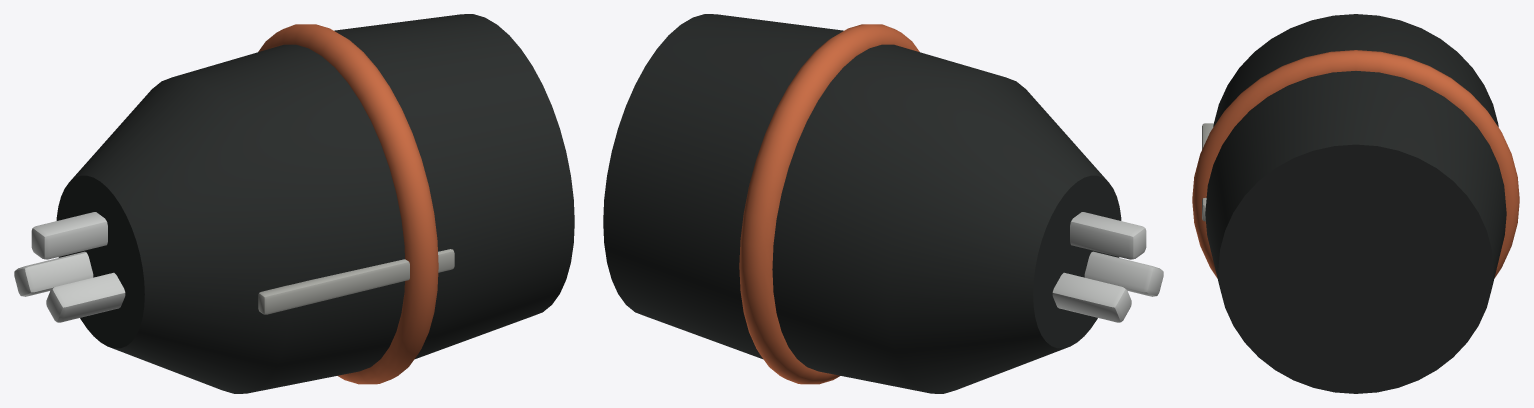
The model's file is corded_drill_chuck.glb.
The picture shows the model from 3 angles, left to right: view 1: azimuth 30°, elevation 25°; view 2: azimuth 150°, elevation 25°; view 3: azimuth 270°, elevation 25°; orthographic projection. The views are drawn at different scales.
Parts seen in each view (by area): view 1: corded_drill_chuck; view 2: corded_drill_chuck; view 3: corded_drill_chuck.
Boxes of the visible parts, left/top/right/bottom form: corded_drill_chuck: left=14, top=14, right=574, bottom=393; corded_drill_chuck: left=603, top=14, right=1163, bottom=393; corded_drill_chuck: left=1192, top=14, right=1519, bottom=393.
Size of the model in its own units: 0.072 by 0.05 by 0.05.
